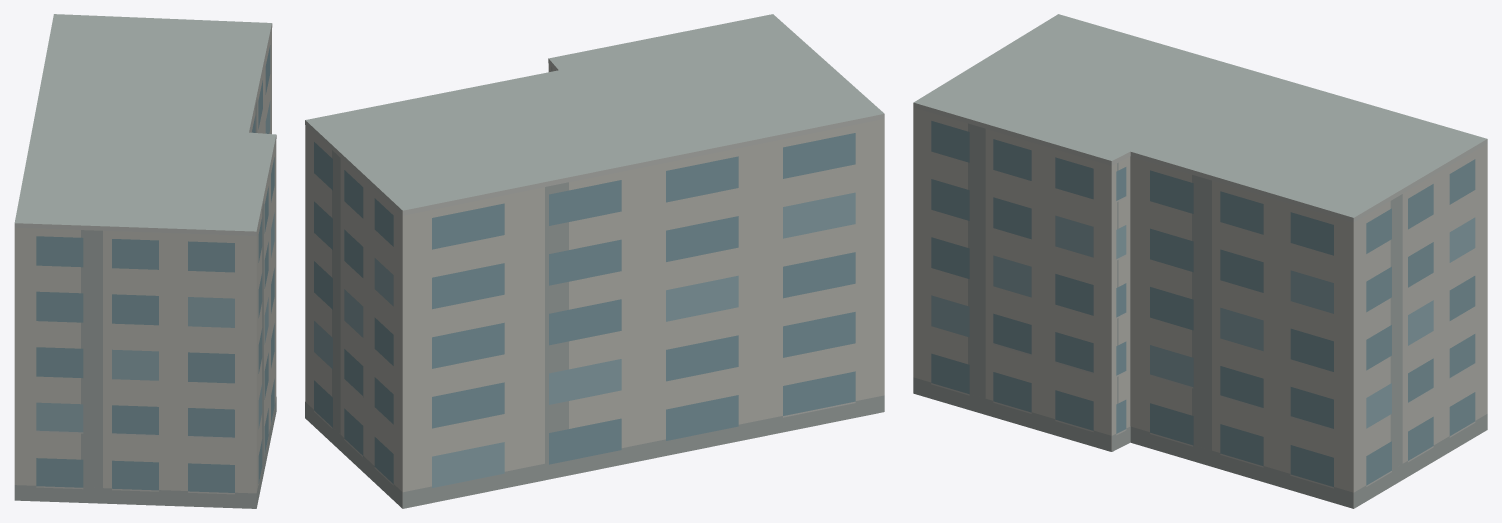
The model's file is survey-upis-32798470.glb.
3 renders of one model, left to right at view 1: azimuth 30°, elevation 25°; view 2: azimuth 150°, elevation 25°; view 3: azimuth 270°, elevation 25°, orthographic. The views are drawn at different scales.
Parts seen in each view (by area): view 1: survey-upis-32798470.tmp; view 2: survey-upis-32798470.tmp; view 3: survey-upis-32798470.tmp.
Part boxes in pixels (x1,y1,x2,y2): survey-upis-32798470.tmp: (14,14,276,508); survey-upis-32798470.tmp: (305,14,884,508); survey-upis-32798470.tmp: (913,14,1487,508).
Size of the model in its own units: 22.25 by 14.8 by 26.47.
